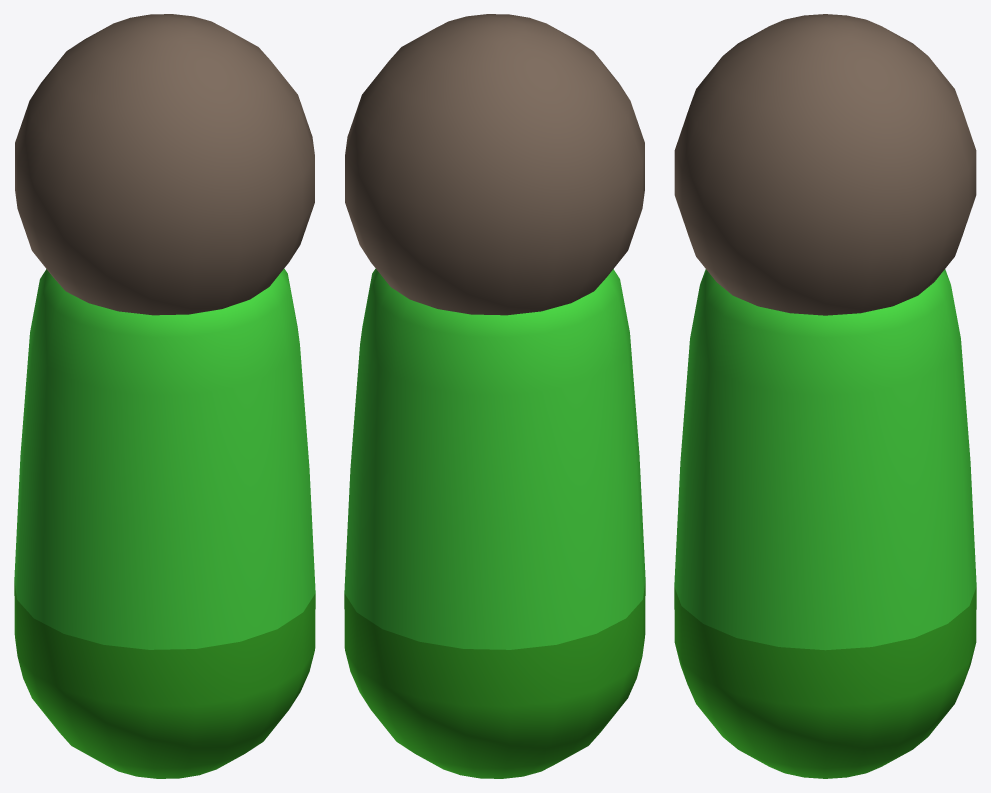
The model's file is yesil2.fbx.
The picture shows the model from 3 angles, left to right: view 1: azimuth 30°, elevation 25°; view 2: azimuth 150°, elevation 25°; view 3: azimuth 270°, elevation 25°; orthographic projection.
Visible parts, largest first — view 1: yesil2; view 2: yesil2; view 3: yesil2.
Boxes of the visible parts, left/top/right/bottom form: yesil2: left=14, top=14, right=315, bottom=778; yesil2: left=344, top=14, right=645, bottom=778; yesil2: left=674, top=14, right=976, bottom=778.
Size of the model in its own units: 1.86 by 5.02 by 1.86.
